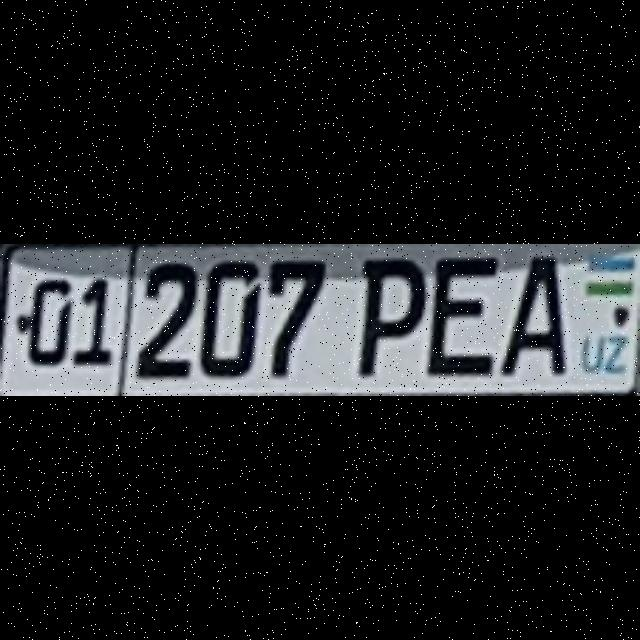0: (192, 256, 258, 374), (22, 275, 68, 363)
1: (68, 272, 108, 360)
2: (134, 258, 192, 374)
7: (266, 258, 324, 374)
A: (498, 250, 564, 374)
E: (425, 252, 493, 374)
P: (354, 252, 424, 372)
